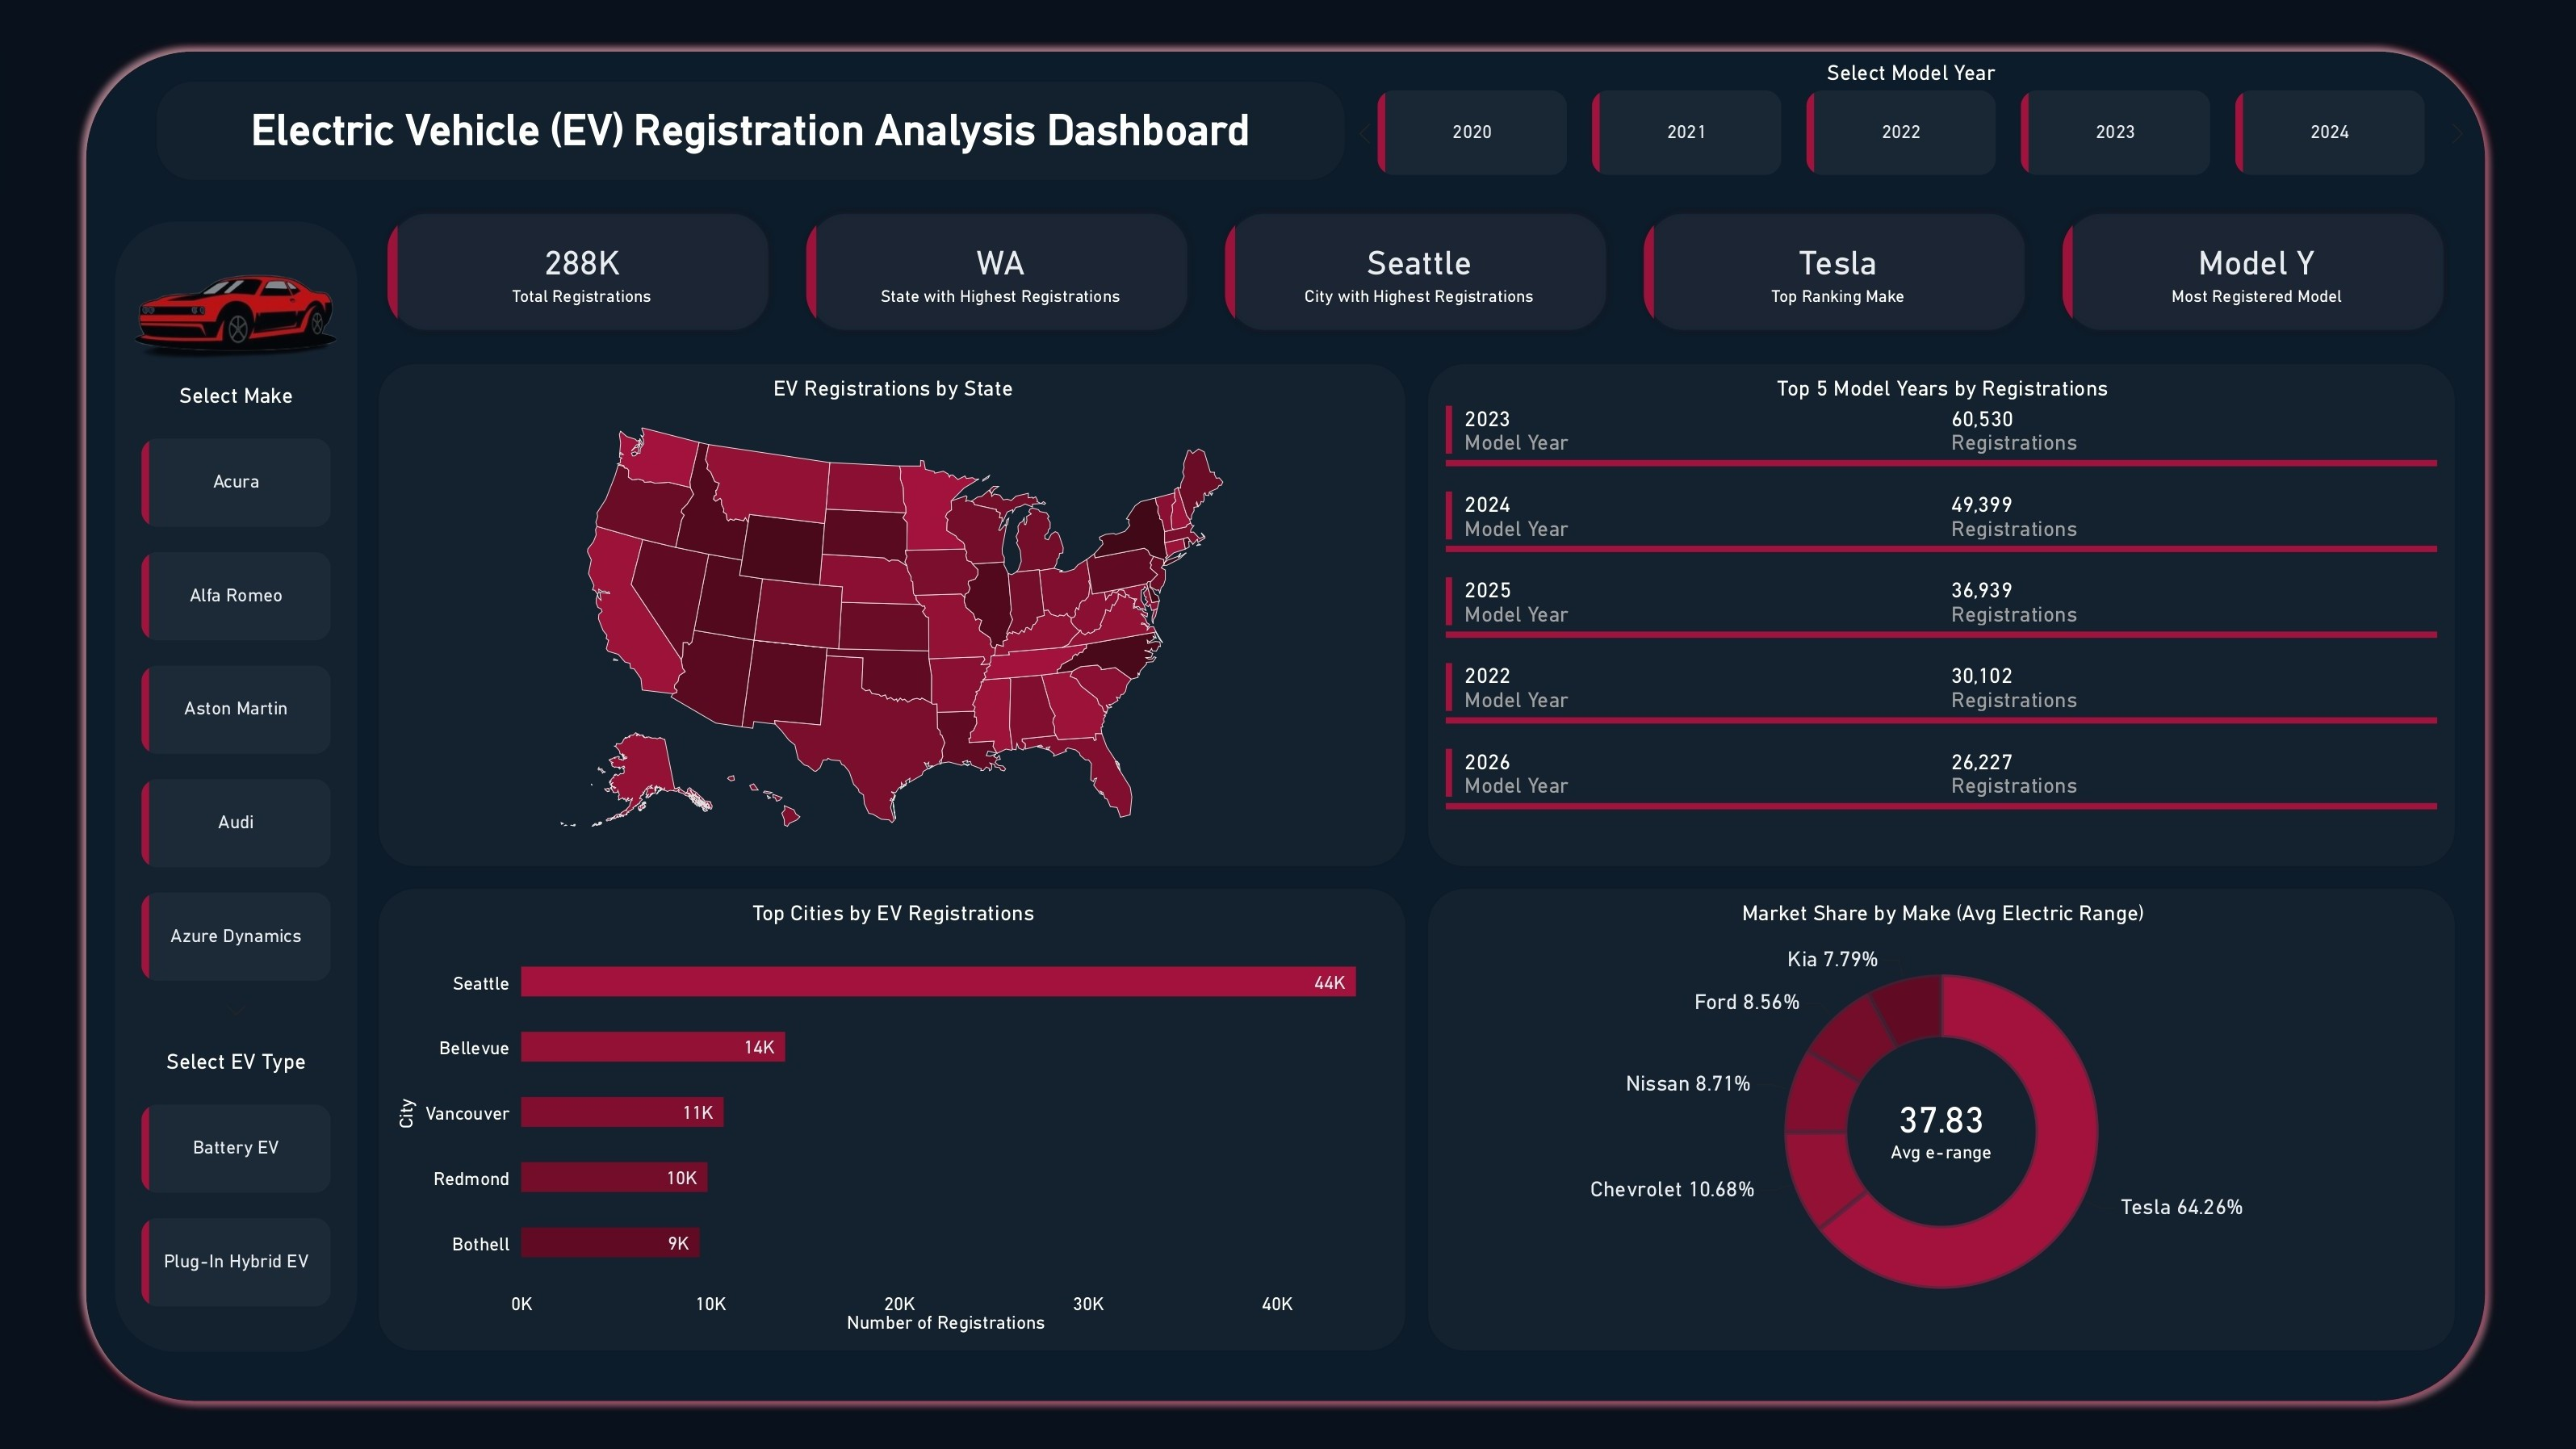

This screenshot's page, from the dashboard's own definition file:
{"tool":"powerbi","page":{"name":"Page 1","canvas":[2048,1152],"ordinal":0},"visuals":[{"type":"shape","box":[64,32,1920,1088],"z":0},{"type":"shape","box":[64,32,1920,1088],"z":1000},{"type":"clusteredBarChart","title":"Top Cities by EV Registrations","fields":{"Category":["ev_data.city"],"Y":["CountNonNull(ev_data.city)"]},"box":[304,704,816,368],"z":2000},{"type":"cardVisual","fields":{"Data":["CountNonNull(ev_data.id)"]},"box":[288,144,352,144],"z":3000,"group":"g1"},{"type":"donutChart","title":"Market Share by Make (Avg Electric Range)","fields":{"Category":["ev_data.make"],"Y":["CountNonNull(ev_data.make)"]},"box":[1136,704,816,368],"z":3000},{"type":"cardVisual","fields":{"Data":["Avg(ev_data.electric_range)"]},"box":[1360,816,368,160],"z":4000},{"type":"cardVisual","fields":{"Data":["Min(ev_data.state)"]},"box":[620,144,352,144],"z":5000,"group":"g1"},{"type":"shapeMap","title":"EV Registrations by State","fields":{"Category":["ev_data.state"],"Series":["ev_data.state"],"Value":["CountNonNull(ev_data.state)"]},"box":[304,288,816,400],"z":5000},{"type":"multiRowCard","title":"Top 5 Model Years by Registrations","fields":{"Values":["ev_data.model_year","CountNonNull(ev_data.make)"]},"box":[1136,288,816,400],"z":6000},{"type":"advancedSlicerVisual","title":"Select Model Year","fields":{"Values":["ev_data.model_year"]},"box":[1072,48,896,96],"z":7000},{"type":"cardVisual","fields":{"Data":["Min(ev_data.city)"]},"box":[952,144,352,144],"z":7000,"group":"g1"},{"type":"shape","box":[96,176,192,896],"z":8000},{"type":"cardVisual","fields":{"Data":["Min(ev_data.make)"]},"box":[1284,144,352,144],"z":9000,"group":"g1"},{"type":"advancedSlicerVisual","title":"Select EV Type","fields":{"Values":["ev_data.ev_type"]},"box":[112,832,160,240],"z":9000},{"type":"advancedSlicerVisual","fields":{"Values":["ev_data.make"]},"box":[112,304,160,512],"z":10000},{"type":"image","box":[48,80,288,336],"z":11000},{"type":"cardVisual","fields":{"Data":["Min(ev_data.model)"]},"box":[1616,144,352,144],"z":11000,"group":"g1"},{"type":"textbox","box":[128,64,944,80],"z":12000},{"type":"group","id":"g1","title":"Group 1","box":[288,144,1680,144],"z":13000}]}

Visuals, with their boxes in screenshot pixels (x1, y1, x2, y2), scaled from the page's 2048x1152 canvas onto the 2576x1449 screenshot:
shape: box(81, 40, 2495, 1409)
shape: box(81, 40, 2495, 1409)
"Top Cities by EV Registrations" clusteredBarChart: box(383, 886, 1409, 1348)
cardVisual - CountNonNull(ev_data.id): box(362, 181, 805, 362)
"Market Share by Make (Avg Electric Range)" donutChart: box(1429, 886, 2455, 1348)
cardVisual - Avg(ev_data.electric_range): box(1711, 1026, 2173, 1228)
cardVisual - Min(ev_data.state): box(780, 181, 1222, 362)
"EV Registrations by State" shapeMap: box(383, 362, 1409, 865)
"Top 5 Model Years by Registrations" multiRowCard: box(1429, 362, 2455, 865)
"Select Model Year" advancedSlicerVisual: box(1348, 61, 2475, 181)
cardVisual - Min(ev_data.city): box(1197, 181, 1640, 362)
shape: box(121, 221, 362, 1348)
cardVisual - Min(ev_data.make): box(1615, 181, 2058, 362)
"Select EV Type" advancedSlicerVisual: box(141, 1046, 342, 1348)
advancedSlicerVisual - ev_data.make: box(141, 383, 342, 1026)
image: box(61, 101, 423, 523)
cardVisual - Min(ev_data.model): box(2033, 181, 2475, 362)
textbox: box(161, 81, 1348, 181)
"Group 1" group: box(362, 181, 2475, 362)
